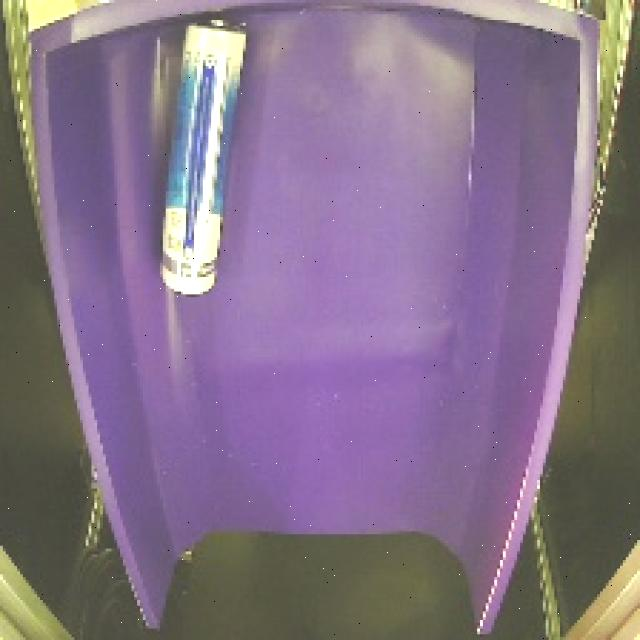battery: (144, 7, 256, 310)
